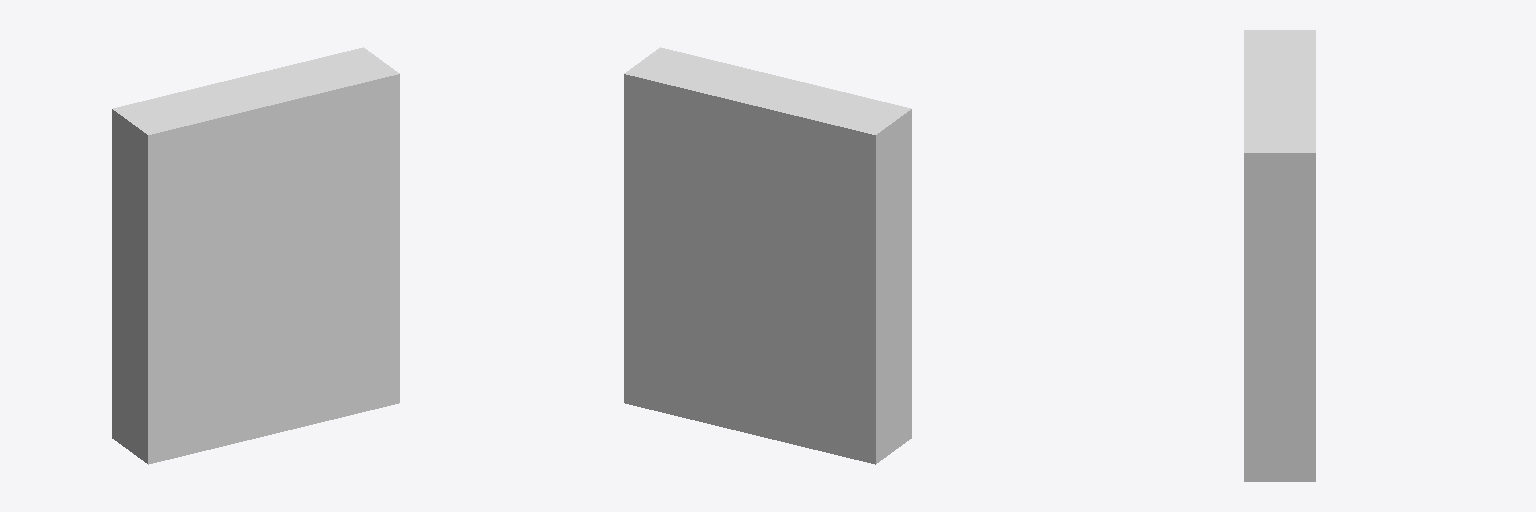
The picture shows the model from 3 angles: view 1: azimuth 30°, elevation 25°; view 2: azimuth 150°, elevation 25°; view 3: azimuth 270°, elevation 25°; orthographic projection.
Visible parts, largest first — view 1: object 1; view 2: object 1; view 3: object 1.
Boxes of the visible parts, x1=… form: object 1: x1=112, y1=47, x2=399, y2=464; object 1: x1=624, y1=47, x2=911, y2=464; object 1: x1=1244, y1=30, x2=1315, y2=481.
Size of the model in its own units: 0.4 by 0.5 by 0.1.
1 materials, 1 textured.